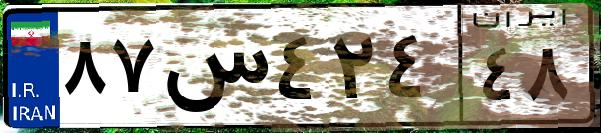2: (330, 28, 385, 110)
4: (270, 28, 330, 110), (385, 28, 445, 110), (475, 38, 525, 113)
7: (110, 28, 158, 98)
8: (57, 26, 110, 100), (525, 38, 570, 115)
س: (158, 20, 270, 120)
